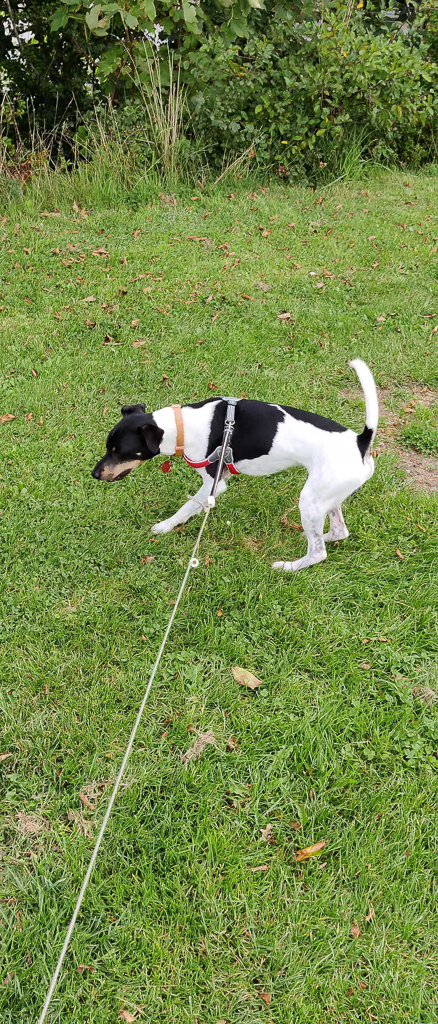Dog: (74, 333, 412, 592)
